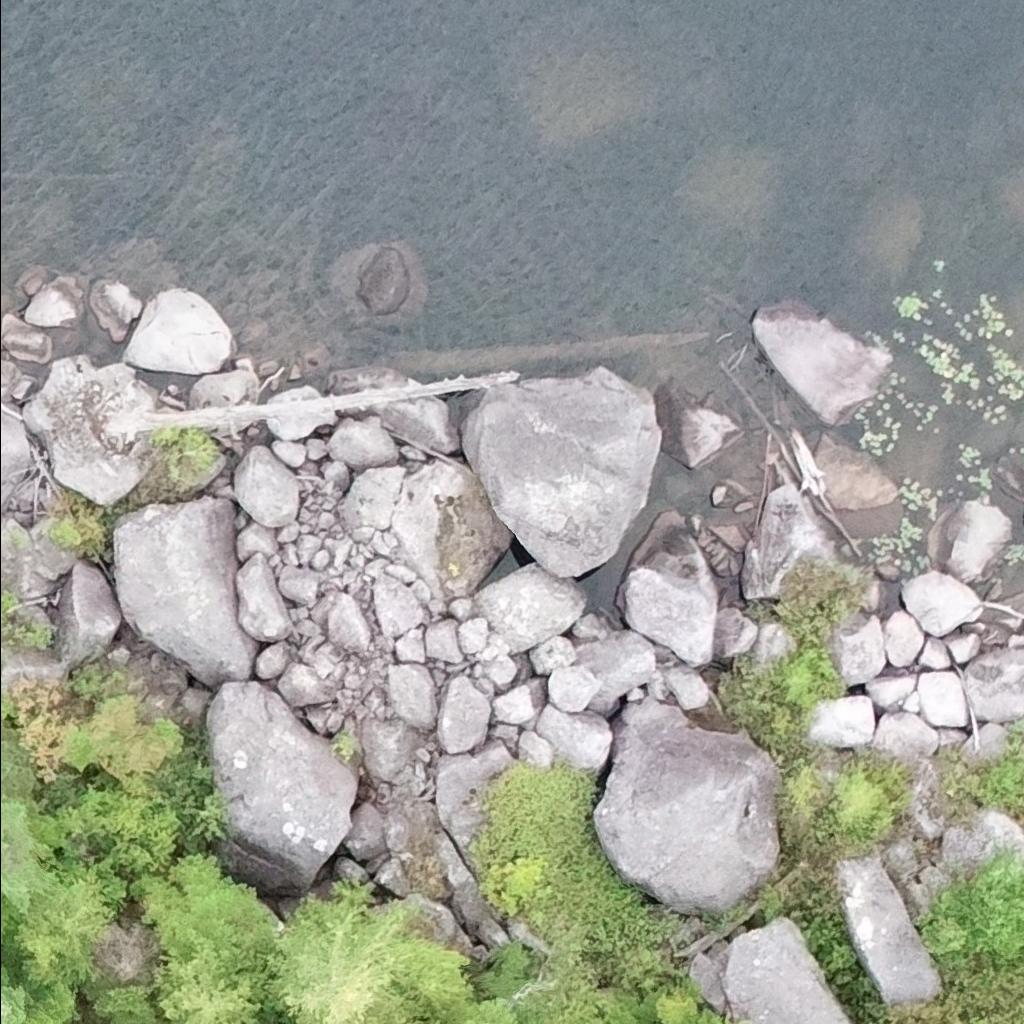crown: (264, 877, 432, 1023), (132, 852, 278, 1012), (1, 853, 126, 993), (0, 727, 63, 950), (3, 674, 79, 783), (154, 948, 264, 1023), (393, 941, 473, 1023), (0, 950, 76, 1023), (683, 1005, 710, 1023), (0, 695, 14, 719), (407, 1016, 445, 1023), (709, 1014, 727, 1023), (378, 1021, 385, 1023), (748, 1023, 752, 1023)
